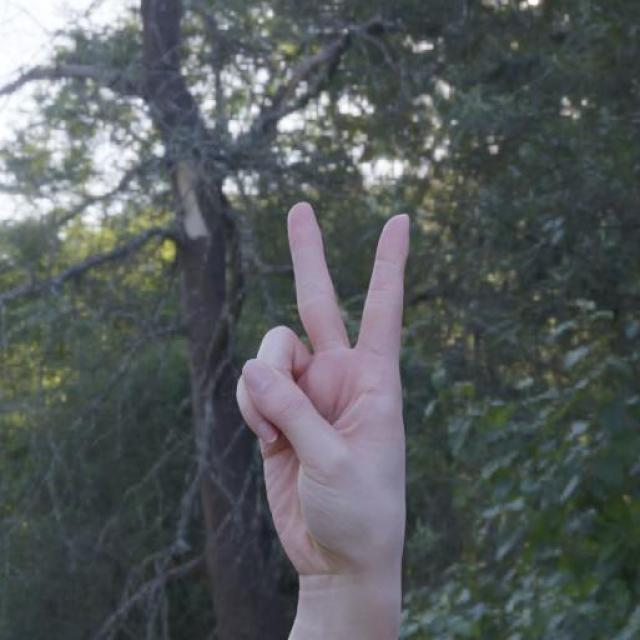V: (233, 198, 421, 606)
